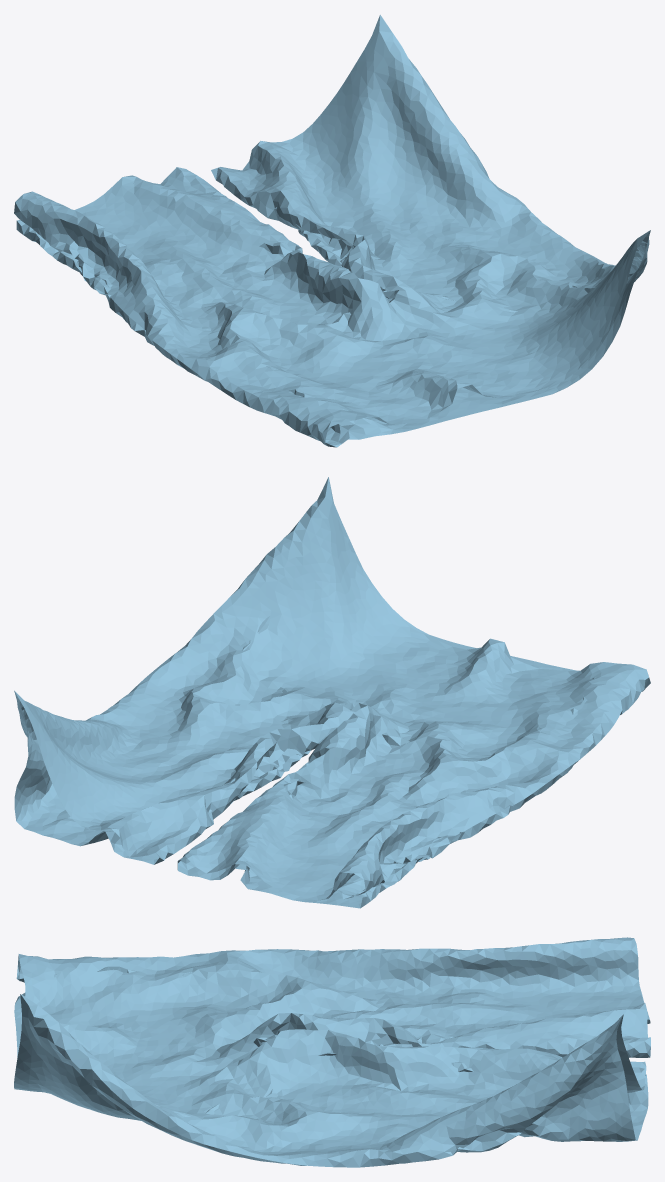
Rendered from frame_04.glb.
3 views of the same model, one above another, from view 1: azimuth 30°, elevation 25°; view 2: azimuth 150°, elevation 25°; view 3: azimuth 270°, elevation 25° (orthographic). The views are drawn at different scales.
Parts seen in each view (by area): view 1: frame_04.obj; view 2: frame_04.obj; view 3: frame_04.obj.
Part boxes in pixels (left/top/right/bottom): frame_04.obj: left=14, top=15, right=650, bottom=447; frame_04.obj: left=14, top=477, right=650, bottom=908; frame_04.obj: left=14, top=937, right=650, bottom=1167.
Bounding box in the file's own units: 1.24 × 0.4117 × 1.6.
